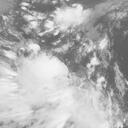cyclone: (23, 53, 72, 106)
